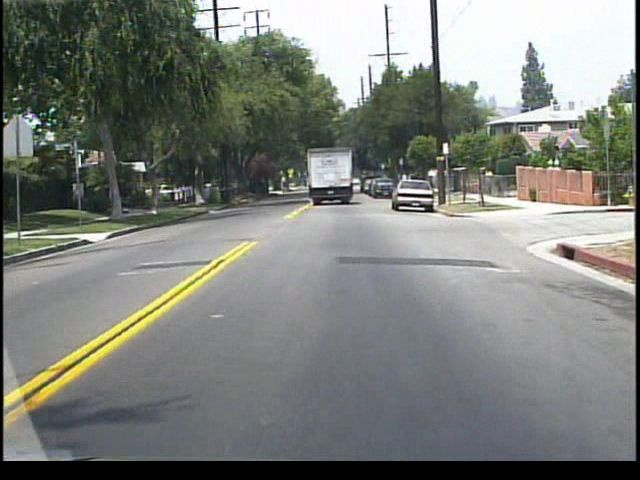person: (481, 166, 495, 198)
